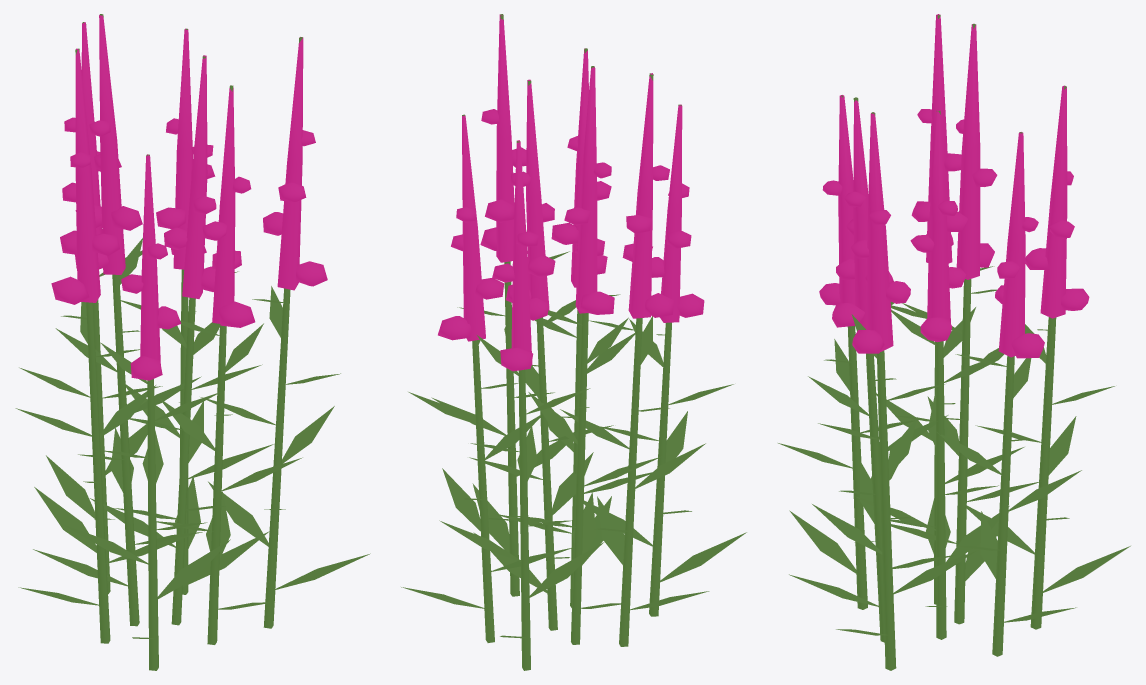
Rendered from Blender_Fireweed_1.glb.
3 renders of one model, left to right at view 1: azimuth 30°, elevation 25°; view 2: azimuth 150°, elevation 25°; view 3: azimuth 270°, elevation 25°, orthographic. The views are drawn at different scales.
Visible parts, largest first — view 1: Blender_Fireweed_1; view 2: Blender_Fireweed_1; view 3: Blender_Fireweed_1.
Boxes of the visible parts, x1=… form: Blender_Fireweed_1: x1=15, y1=14, x2=370, y2=670; Blender_Fireweed_1: x1=401, y1=14, x2=746, y2=670; Blender_Fireweed_1: x1=778, y1=14, x2=1130, y2=670.
Bounding box in the file's own units: 0.7634 × 1.46 × 0.8052.
